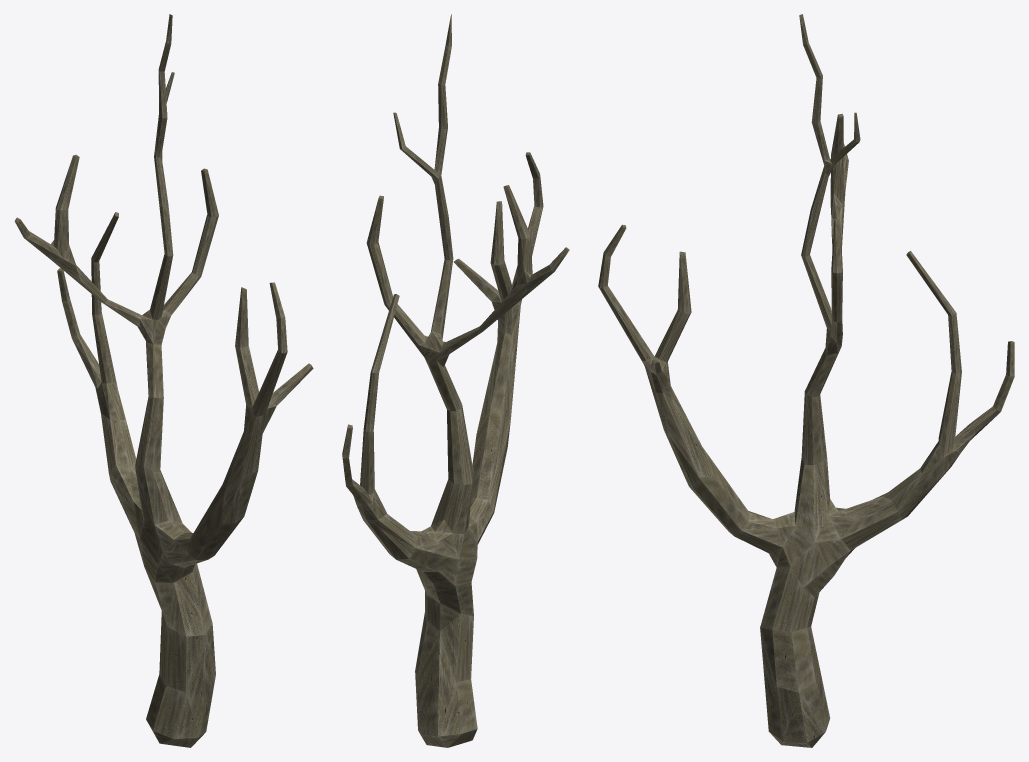
File: tree02.fbx
3 renders of one model, left to right at view 1: azimuth 30°, elevation 25°; view 2: azimuth 150°, elevation 25°; view 3: azimuth 270°, elevation 25°, orthographic.
Parts seen in each view (by area): view 1: Cube; view 2: Cube; view 3: Cube.
Boxes of the visible parts, <box> form: Cube: <box>14,14,313,747</box>; Cube: <box>342,14,569,747</box>; Cube: <box>598,14,1014,747</box>.
Size of the model in its own units: 168 by 569 by 296.
